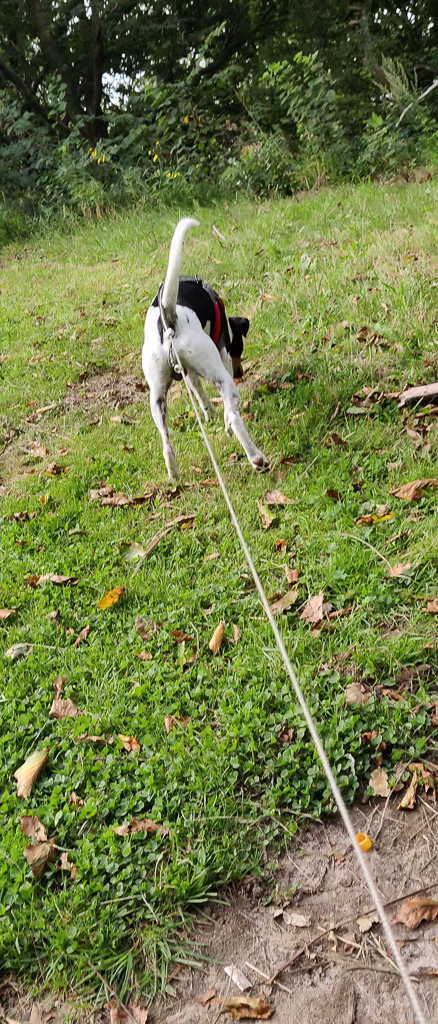Dog: (127, 195, 279, 510)
